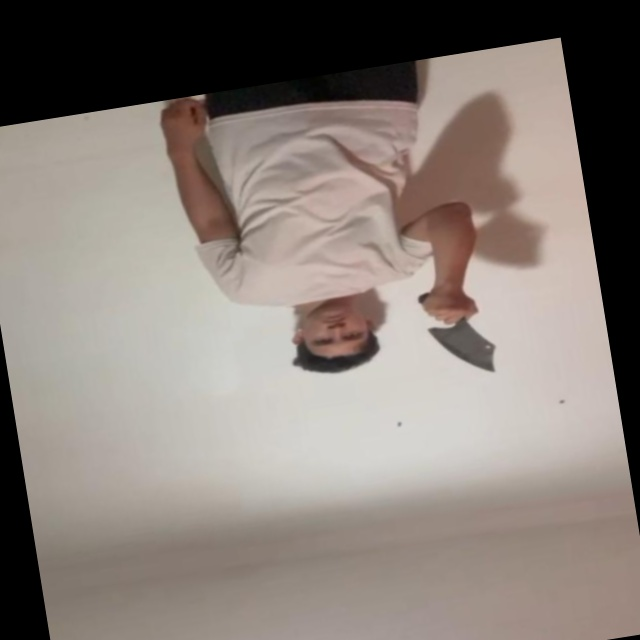Sharp-Object: (430, 320, 500, 380)
